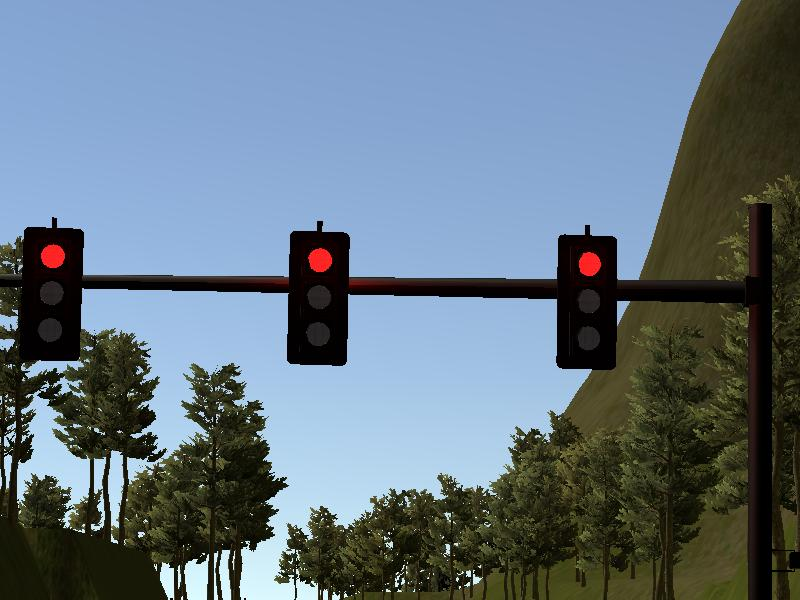red: (555, 234, 619, 371), (22, 224, 85, 362), (286, 230, 349, 366)
